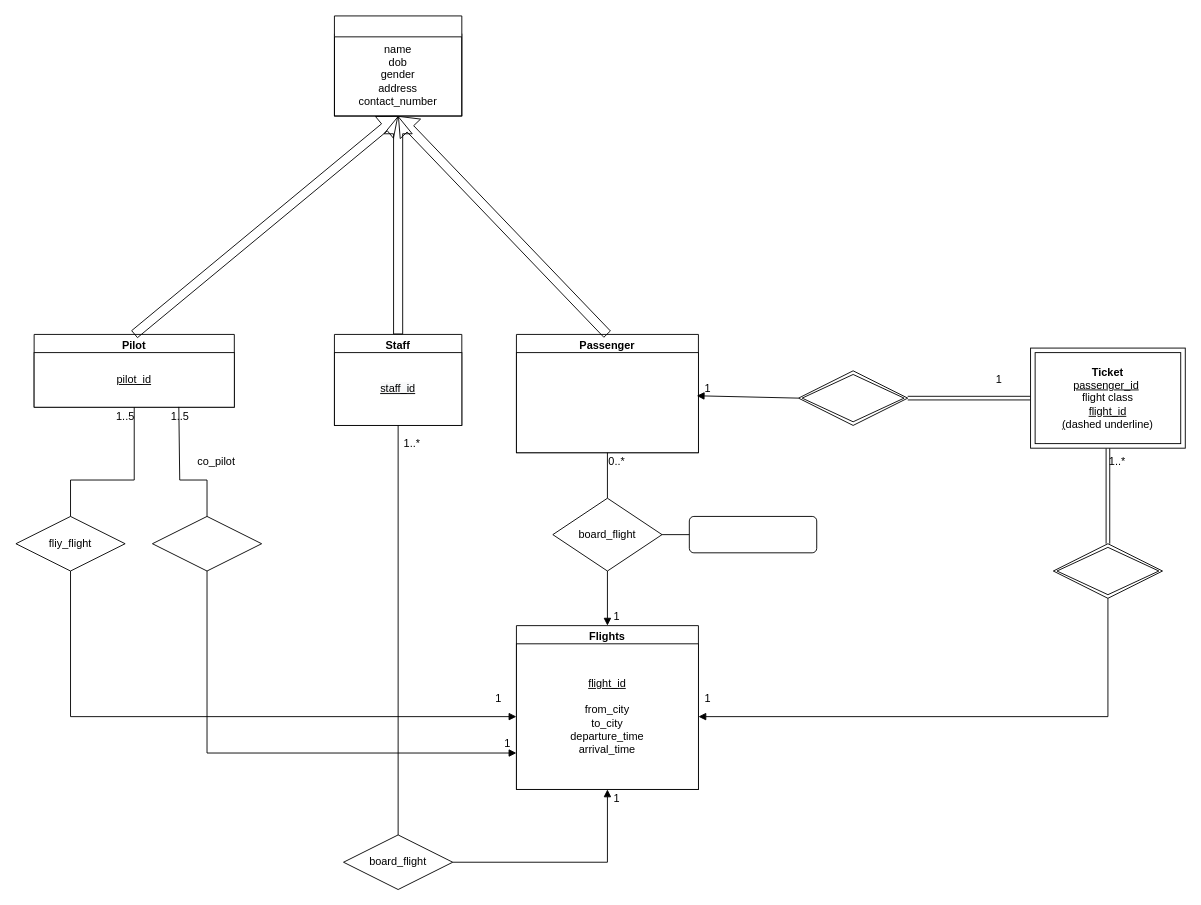
The diagram is 1201 pixels wide and 905 high, and some of its shapes have lost their labels. The shapes that lost their labels are listed below. From the top down, each one's centre as x and y in pixels, then its label:
pixel 398 65: Person
pixel 607 402: passenger_id passenger_seatno
pixel 853 397: has_bought
pixel 207 543: fly_flight
pixel 752 534: boarding_time
pixel 1107 570: ticket_for_flight
